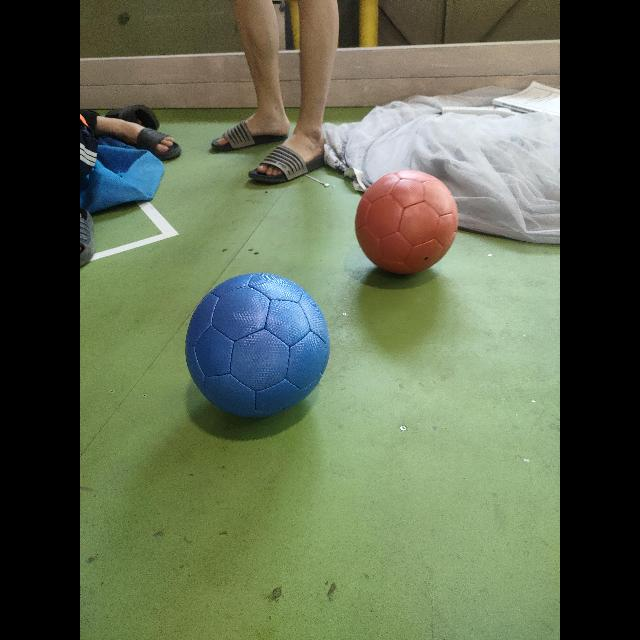B: (185, 274, 330, 418)
R: (355, 170, 458, 274)
